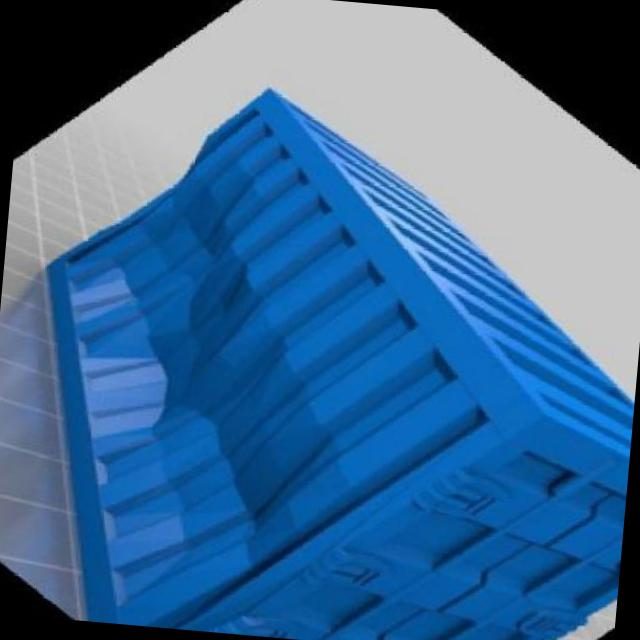Deframe_or_Dent: (44, 79, 531, 629)
